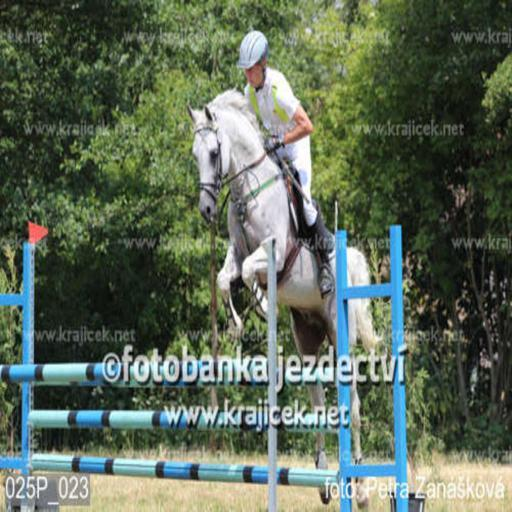horse: (189, 86, 385, 511)
